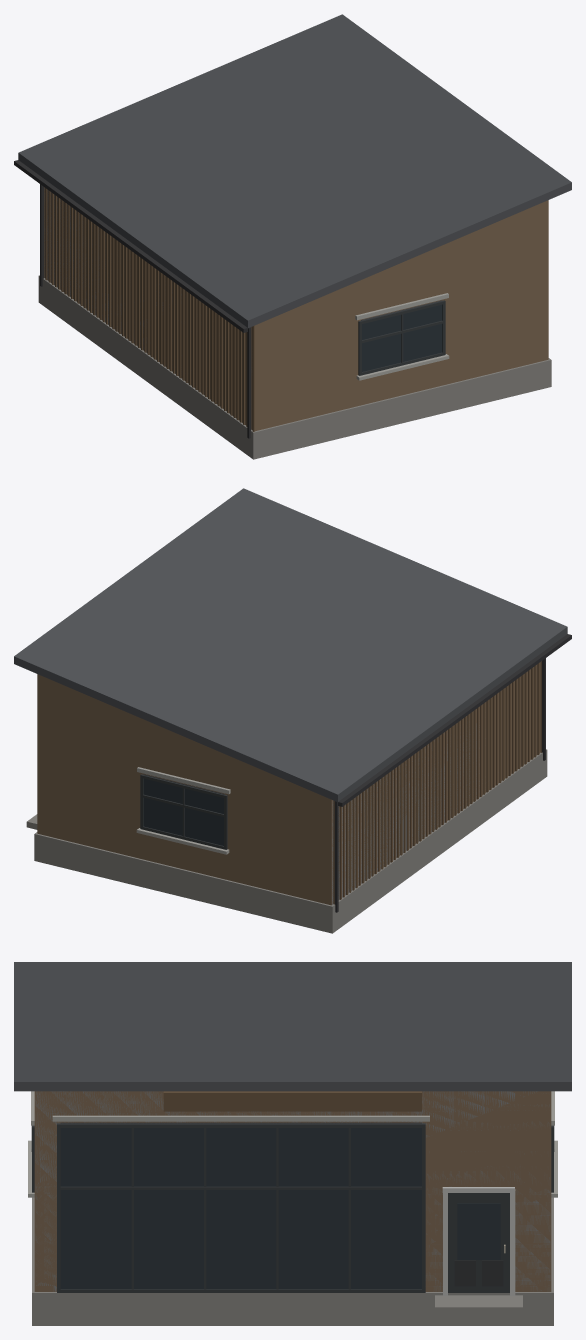
Rendered from SM_Prop_cafe_building_9.glb.
The picture shows the model from 3 angles, top to bottom: view 1: azimuth 30°, elevation 25°; view 2: azimuth 150°, elevation 25°; view 3: azimuth 270°, elevation 25°; orthographic projection. The views are drawn at different scales.
Parts seen in each view (by area): view 1: SM_Prop_cafe_building_9; view 2: SM_Prop_cafe_building_9; view 3: SM_Prop_cafe_building_9.
Part boxes in pixels (bbox=[...]): SM_Prop_cafe_building_9: bbox=[14, 14, 571, 459]; SM_Prop_cafe_building_9: bbox=[14, 488, 571, 933]; SM_Prop_cafe_building_9: bbox=[14, 962, 571, 1325].
Bounding box in the file's own units: 9.12 × 5.37 × 10.8.
